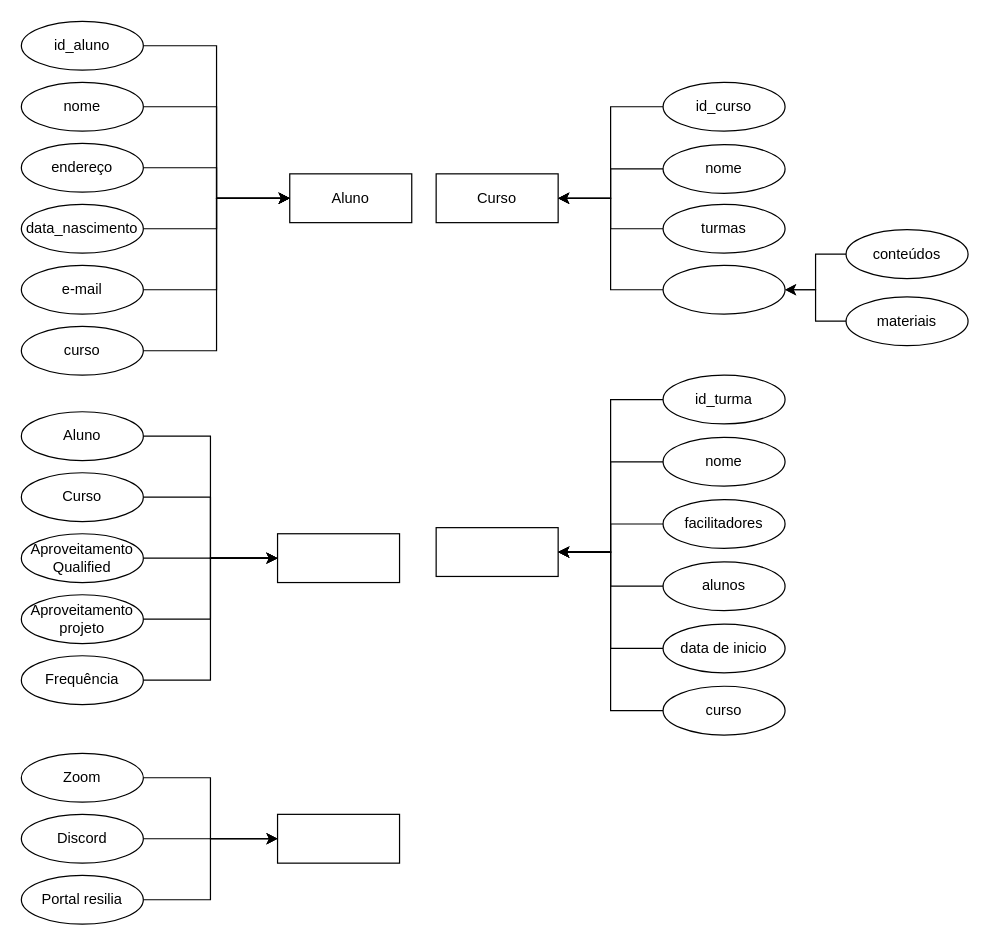
The diagram is 989 pixels wide and 946 high, and some of its shapes have lost their labels. Here are the shapes that lost their labels. From the top down, the box of each, then its label:
(662, 264, 785, 314): ementa
(276, 533, 400, 583): Certificado
(435, 526, 558, 576): Turma
(276, 813, 400, 863): Portais de comunicação com aluno
